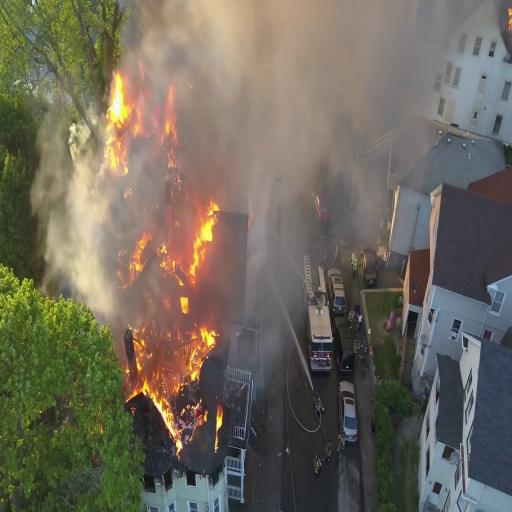fire: (105, 77, 136, 176), (188, 208, 217, 286), (148, 385, 183, 442), (161, 94, 176, 140)
smoke: (186, 0, 390, 166)
